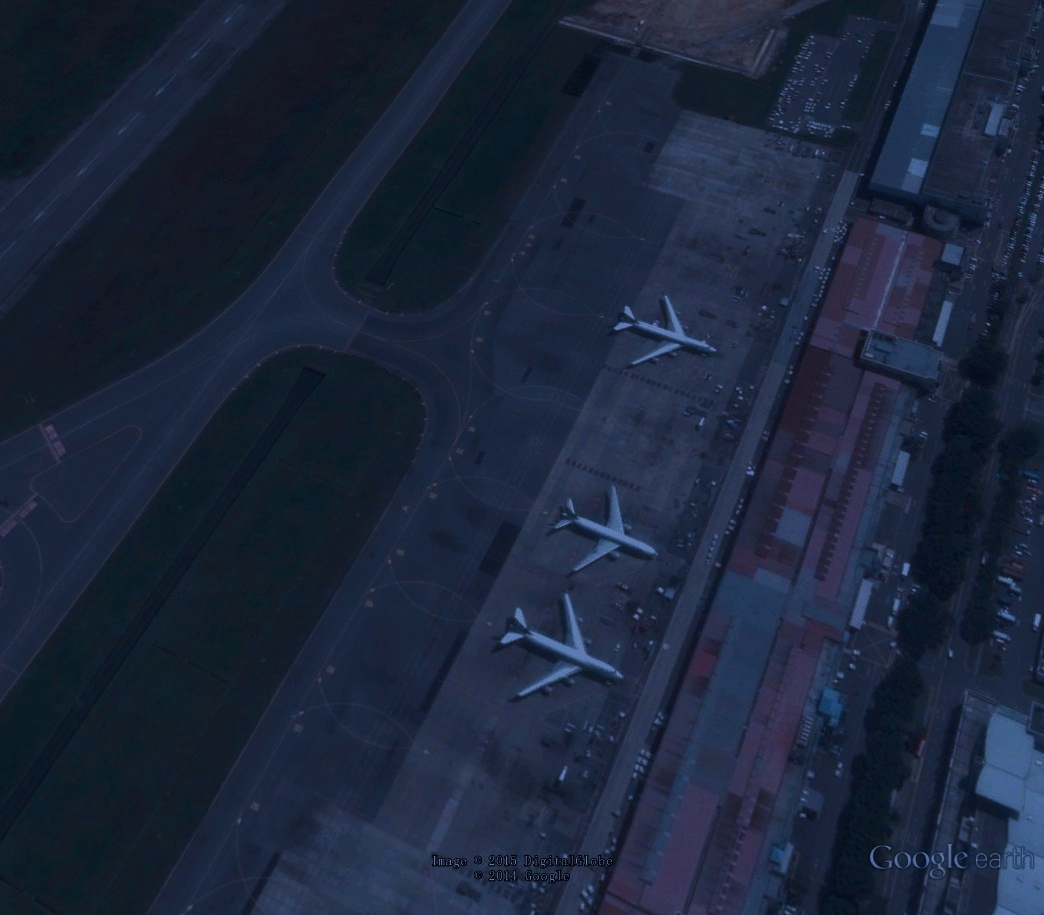aircraft: (487, 586, 630, 706), (543, 478, 663, 582), (607, 292, 723, 372)
